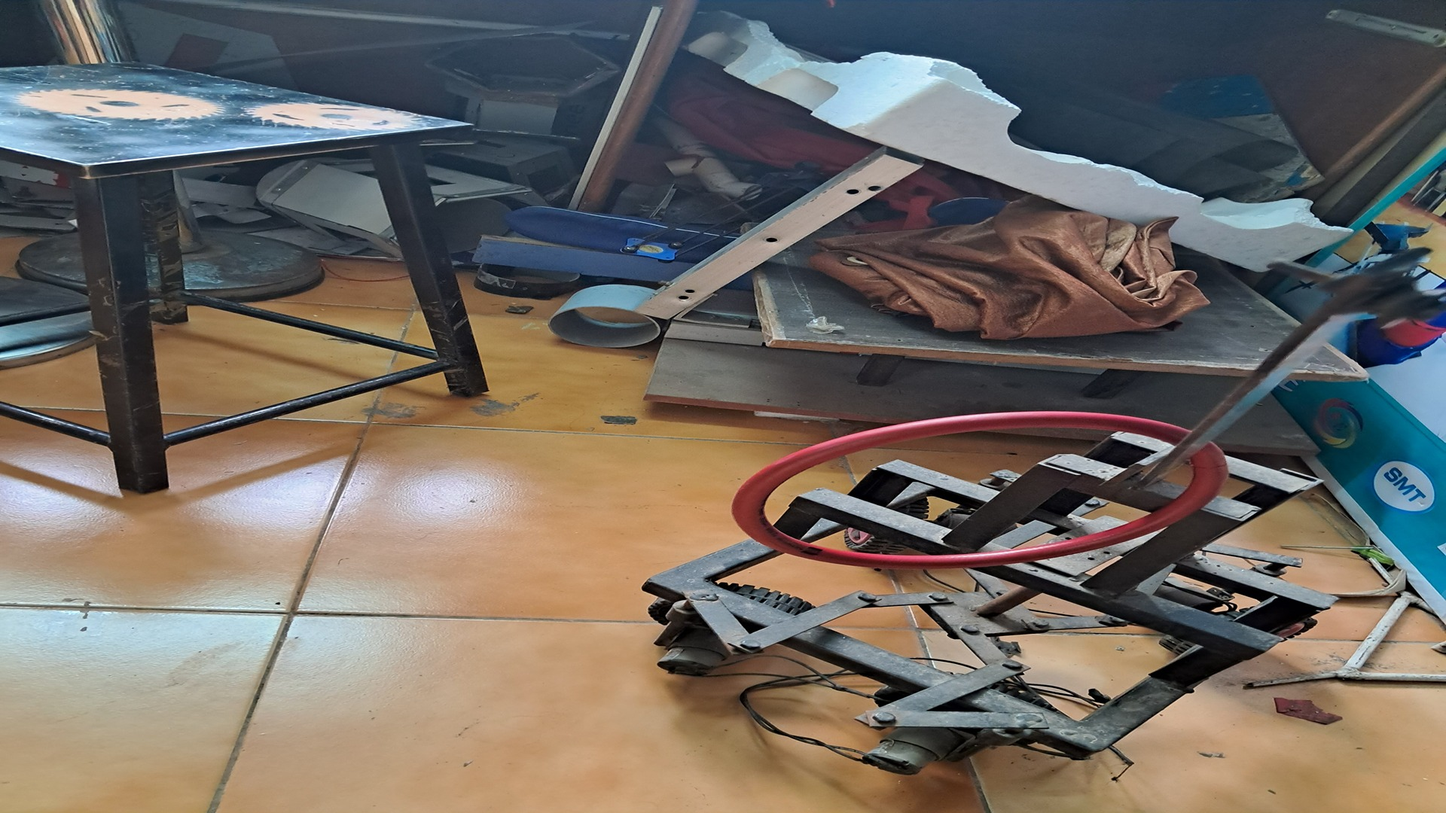Red ring: (733, 409, 1234, 569)
